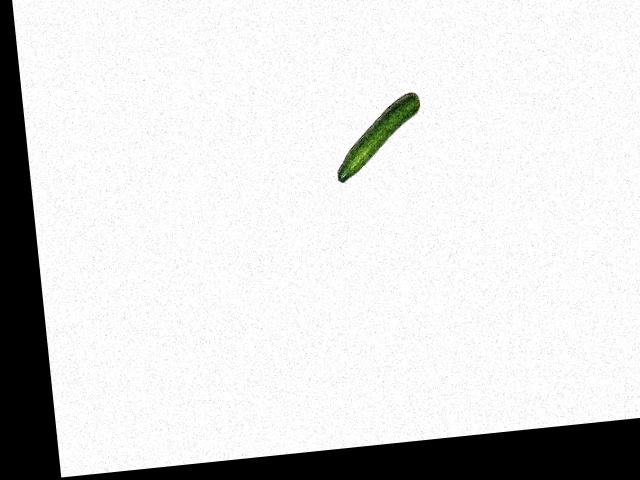cucumber: (330, 91, 427, 183)
